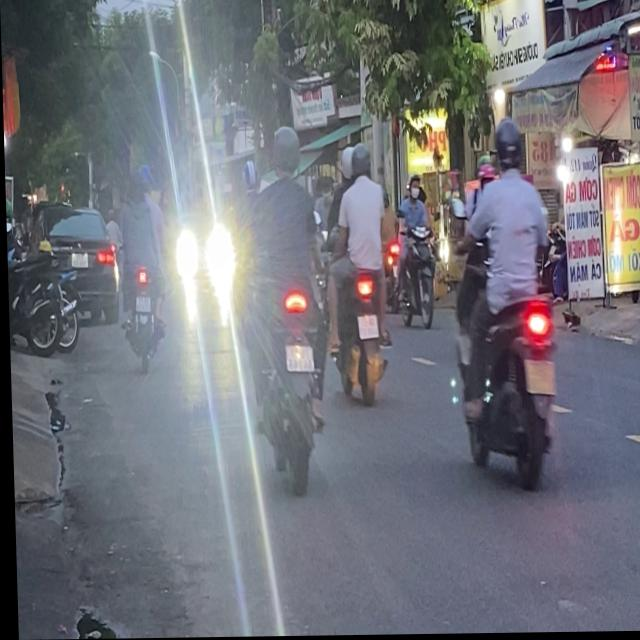helmet: (493, 117, 526, 176), (270, 124, 301, 178), (351, 142, 372, 181), (340, 144, 355, 185), (407, 174, 421, 200)
licenseplate: (444, 115, 563, 493), (241, 121, 332, 494), (322, 141, 394, 405), (392, 172, 440, 330)
nohelmet: (524, 361, 554, 396), (284, 343, 312, 372), (356, 315, 377, 339), (133, 295, 150, 314)
